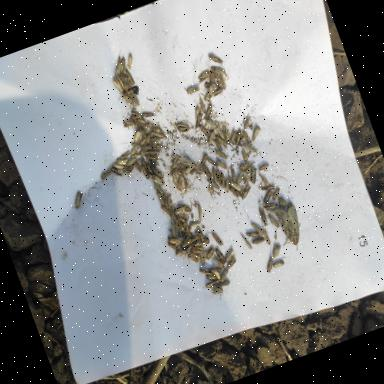pbw: (190, 112, 208, 134), (194, 69, 214, 87), (71, 192, 89, 212), (231, 128, 248, 148), (202, 102, 219, 121), (266, 211, 282, 231), (151, 171, 167, 191), (238, 229, 252, 251), (200, 85, 218, 102), (220, 124, 234, 145), (198, 262, 216, 278), (248, 124, 264, 142), (174, 246, 193, 261), (124, 52, 138, 72), (112, 76, 126, 96), (200, 280, 220, 294), (200, 162, 214, 182), (242, 128, 256, 148), (214, 278, 234, 292), (195, 226, 208, 247), (240, 115, 256, 132), (249, 234, 267, 249), (183, 154, 198, 172), (196, 94, 208, 116), (258, 206, 271, 226), (258, 170, 271, 190), (210, 52, 226, 68), (121, 164, 137, 180), (260, 190, 276, 206), (187, 250, 203, 266), (116, 57, 130, 75), (248, 167, 262, 185), (264, 256, 278, 274), (227, 128, 242, 144), (216, 246, 228, 266), (213, 168, 225, 188), (98, 167, 115, 181), (207, 263, 225, 276), (204, 245, 218, 261), (212, 64, 228, 78), (112, 61, 126, 77), (212, 284, 226, 300), (204, 130, 218, 146), (116, 154, 132, 168), (198, 122, 211, 139), (212, 232, 225, 249), (213, 253, 226, 270), (262, 199, 279, 212), (261, 226, 272, 246), (260, 182, 278, 194), (168, 207, 180, 225), (240, 184, 254, 199), (147, 136, 162, 150), (177, 202, 192, 216), (131, 129, 145, 144), (271, 186, 284, 202), (186, 233, 202, 246), (245, 229, 261, 242), (191, 106, 204, 122), (207, 155, 220, 171), (208, 177, 220, 194), (219, 73, 230, 91), (125, 69, 136, 87), (244, 142, 258, 156), (271, 246, 285, 260), (152, 128, 166, 142), (215, 148, 229, 162), (218, 268, 232, 282), (230, 180, 243, 195), (223, 246, 238, 259), (212, 85, 227, 98), (162, 204, 174, 220), (252, 221, 264, 237), (222, 178, 234, 194), (188, 84, 202, 97), (226, 257, 240, 270), (112, 160, 126, 173), (217, 158, 230, 172), (128, 143, 142, 156), (229, 185, 242, 199), (206, 271, 220, 284), (170, 156, 183, 170), (244, 162, 257, 176), (234, 172, 248, 185), (210, 166, 220, 184), (117, 74, 127, 92), (154, 183, 166, 198), (216, 124, 226, 142), (206, 116, 218, 131), (154, 167, 166, 182), (170, 168, 180, 186), (195, 204, 206, 220), (131, 109, 144, 122), (174, 167, 186, 181), (168, 236, 182, 248), (216, 134, 228, 148), (134, 118, 146, 132), (146, 146, 160, 158), (168, 240, 180, 254), (111, 166, 123, 180), (177, 122, 191, 134), (146, 152, 160, 164), (180, 238, 195, 249), (166, 194, 176, 210), (182, 222, 192, 238), (140, 164, 150, 180), (160, 193, 170, 209), (240, 148, 250, 164), (230, 168, 240, 184), (213, 70, 223, 86), (212, 266, 222, 282), (208, 70, 219, 84), (278, 197, 289, 211), (174, 205, 188, 216), (218, 174, 229, 188), (130, 93, 140, 108), (168, 223, 178, 238), (124, 92, 134, 107), (156, 191, 166, 206), (142, 119, 154, 131), (266, 206, 278, 218), (199, 154, 211, 166), (141, 158, 151, 172), (190, 245, 204, 255), (272, 259, 286, 269), (238, 162, 252, 172), (138, 148, 152, 158), (198, 252, 208, 266), (143, 109, 155, 120), (138, 136, 150, 147), (144, 132, 155, 144), (122, 79, 132, 92), (125, 158, 138, 168), (172, 224, 182, 237), (119, 150, 132, 160), (204, 80, 217, 90), (184, 164, 197, 174), (188, 220, 202, 229), (114, 54, 124, 66), (258, 162, 270, 172), (192, 240, 204, 250), (242, 169, 251, 182), (178, 219, 186, 233), (178, 214, 188, 225), (154, 142, 165, 152), (140, 144, 152, 153), (134, 161, 142, 174), (146, 163, 154, 176), (124, 89, 136, 97), (188, 167, 198, 176), (171, 154, 182, 162), (130, 152, 140, 160), (122, 119, 132, 127), (124, 124, 133, 132), (142, 128, 148, 140), (138, 117, 146, 126), (177, 176, 184, 186), (243, 178, 251, 186), (130, 115, 138, 123), (228, 176, 234, 186), (183, 178, 189, 188), (130, 121, 136, 130)
